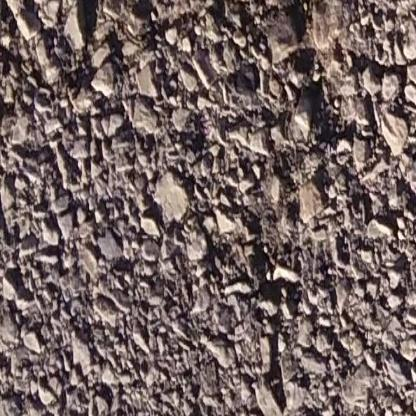Cracks: (0, 0, 349, 154)
